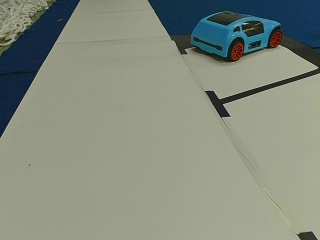car: (191, 12, 282, 61)
